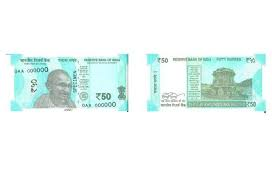fifty: (15, 65, 117, 101)
